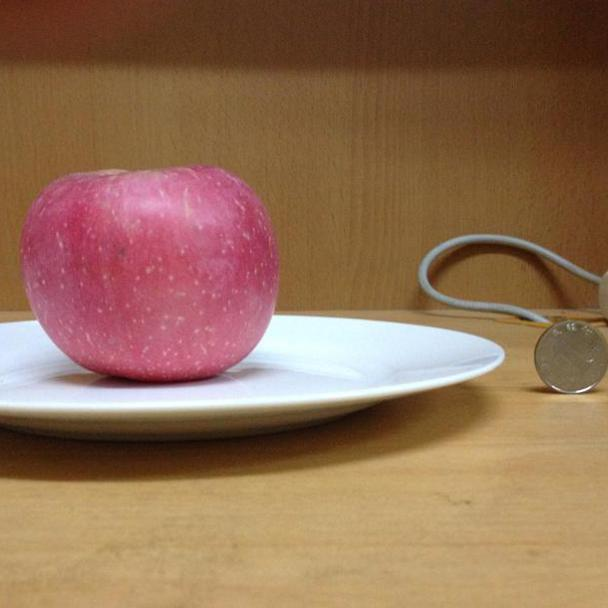apple: (19, 166, 279, 383)
